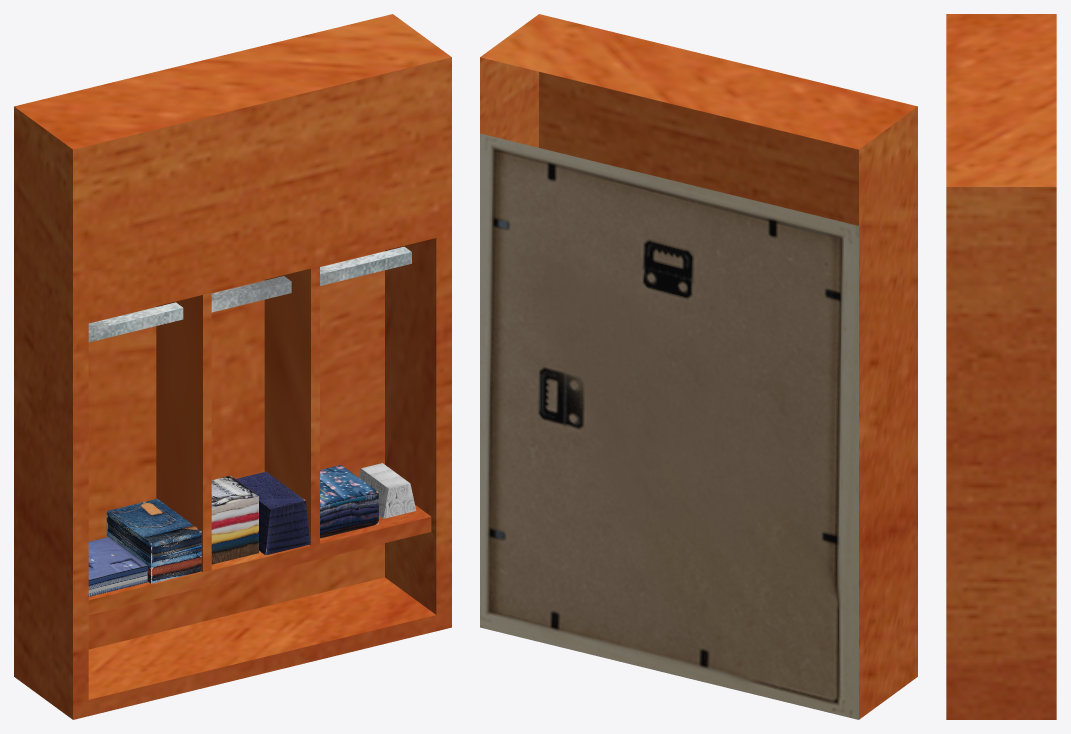
Rendered from corridorWoredrobe.FBX.
The picture shows the model from 3 angles, left to right: view 1: azimuth 30°, elevation 25°; view 2: azimuth 150°, elevation 25°; view 3: azimuth 270°, elevation 25°; orthographic projection. The views are drawn at different scales.
Parts seen in each view (by area): view 1: Box001, Object006, Object010, Object011, Object013, Box003, Object012, Object009, Box005, Box006, Object014, Box002 (+1 smaller); view 2: Object005, Box001; view 3: Box001.
Boxes of the visible parts, bbox=[...] form: Box001: bbox=[14, 14, 451, 719]; Object006: bbox=[88, 246, 411, 342]; Object010: bbox=[106, 511, 201, 583]; Object011: bbox=[211, 496, 258, 564]; Object013: bbox=[259, 500, 310, 555]; Box003: bbox=[107, 498, 200, 543]; Object012: bbox=[320, 492, 378, 538]; Object009: bbox=[88, 537, 146, 579]; Box005: bbox=[320, 465, 378, 506]; Box006: bbox=[236, 471, 305, 509]; Object014: bbox=[359, 468, 416, 518]; Box002: bbox=[88, 565, 147, 596]; Object005: bbox=[480, 133, 858, 719]; Box001: bbox=[480, 14, 917, 719]; Box001: bbox=[946, 14, 1056, 719].
Size of the model in its own units: 83.45 by 120 by 22.56.
15 materials, 15 textured.
